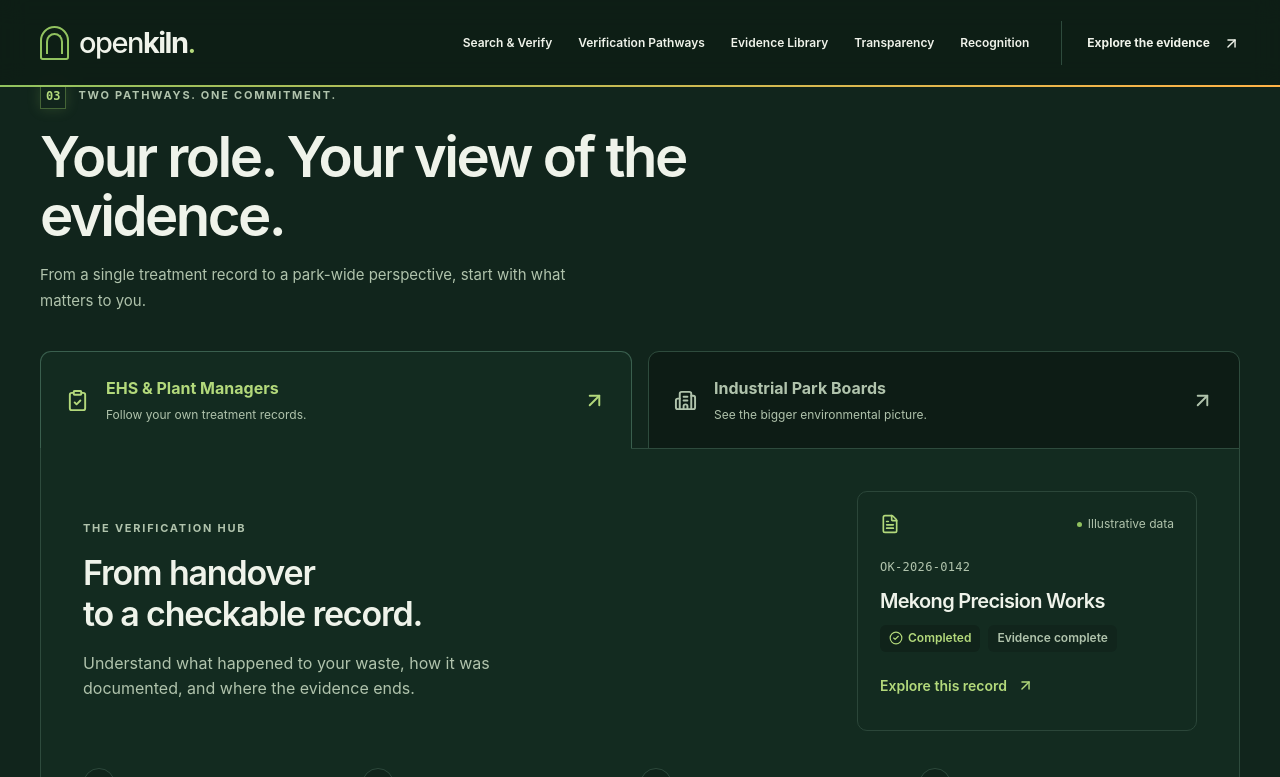
Test: Open Kiln visitor journeys › switches audiences and reconciles quarter values
The width and height of the screenshot is (1280, 777).
(page scrolled)
Focus the tab "Industrial Park Boards See the bigger environmental picture." at [800, 388], box [648,352,1240,450]
(page scrolled)
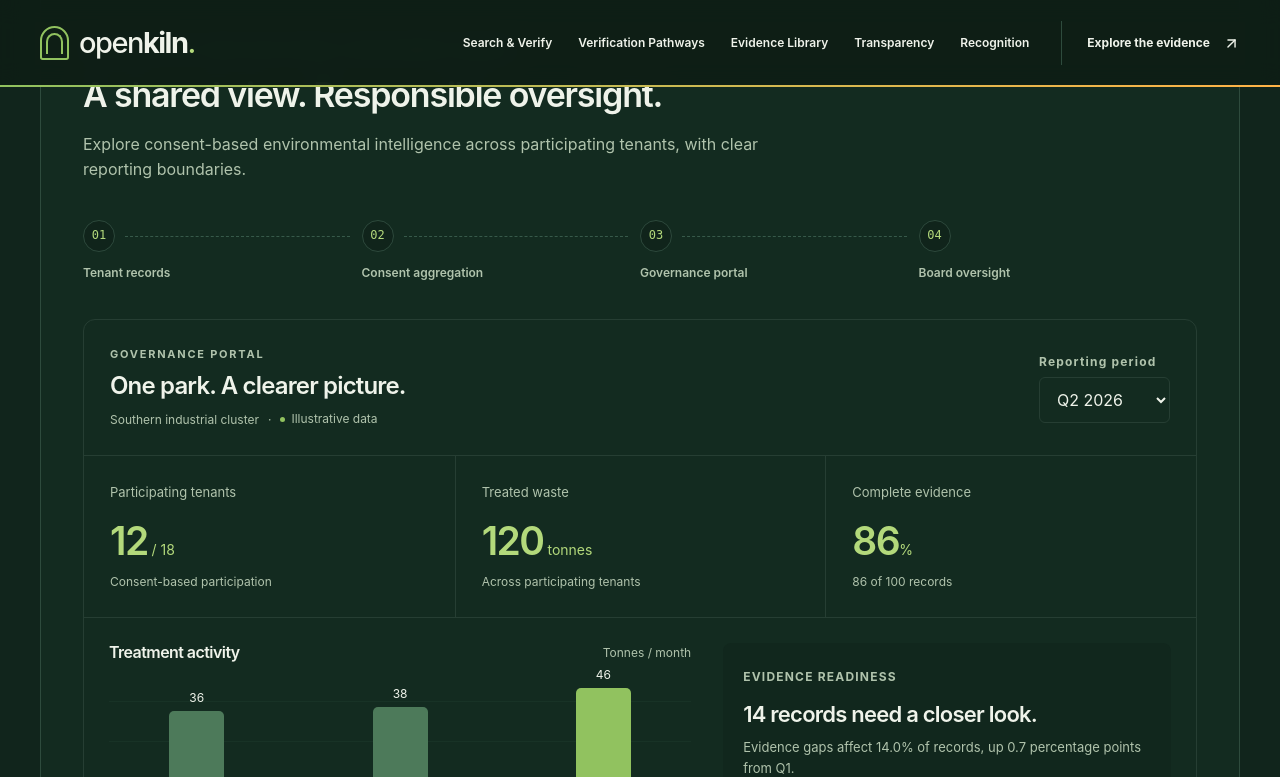
expect the heading "14 records need a closer look." is shown: met, box [743,701,1037,727]
expect the text "86 of 100 records" is shown: met, box [852,574,952,589]
Select "Q1 2026" in the dropdown labelled "Reporting period" at [1104, 400], box [1039,377,1170,423]
(page scrolled)
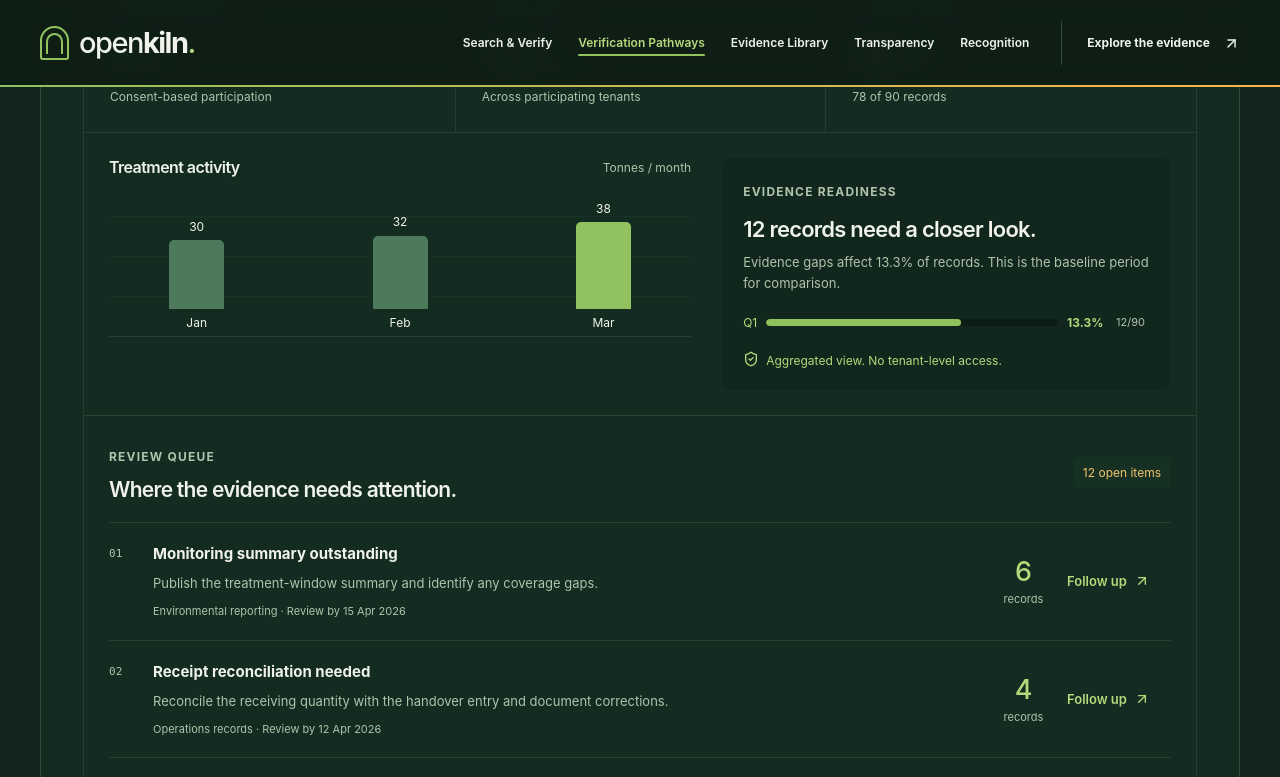
expect the text "78 of 90 records" is shown: met, box [852,89,946,104]
expect the heading "12 records need a closer look." is shown: met, box [743,216,1036,242]
